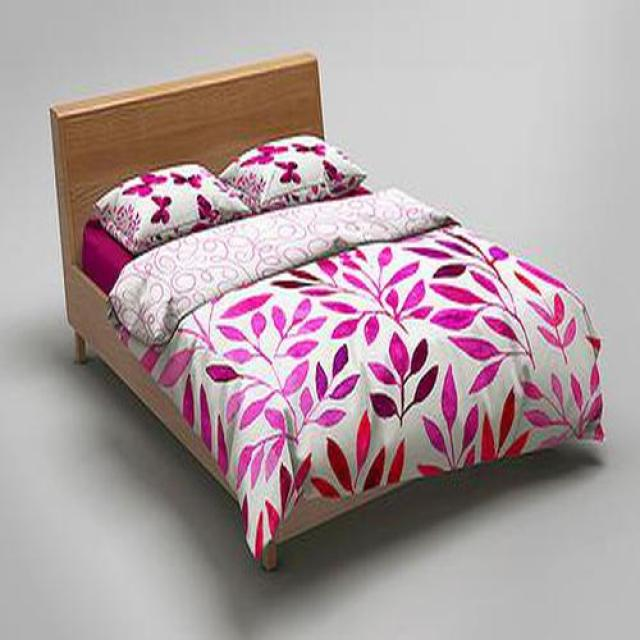bed: (50, 52, 604, 572)
